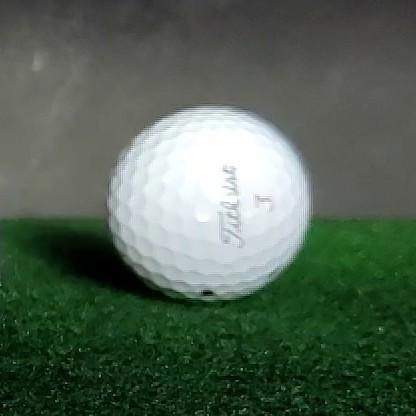golfball: (105, 106, 311, 301)
